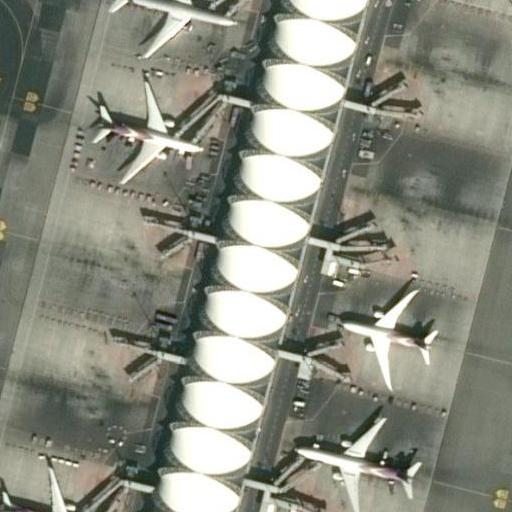Aircraft: (294, 410, 414, 512), (84, 84, 203, 185), (336, 280, 443, 387), (107, 0, 233, 62), (0, 461, 106, 512)
